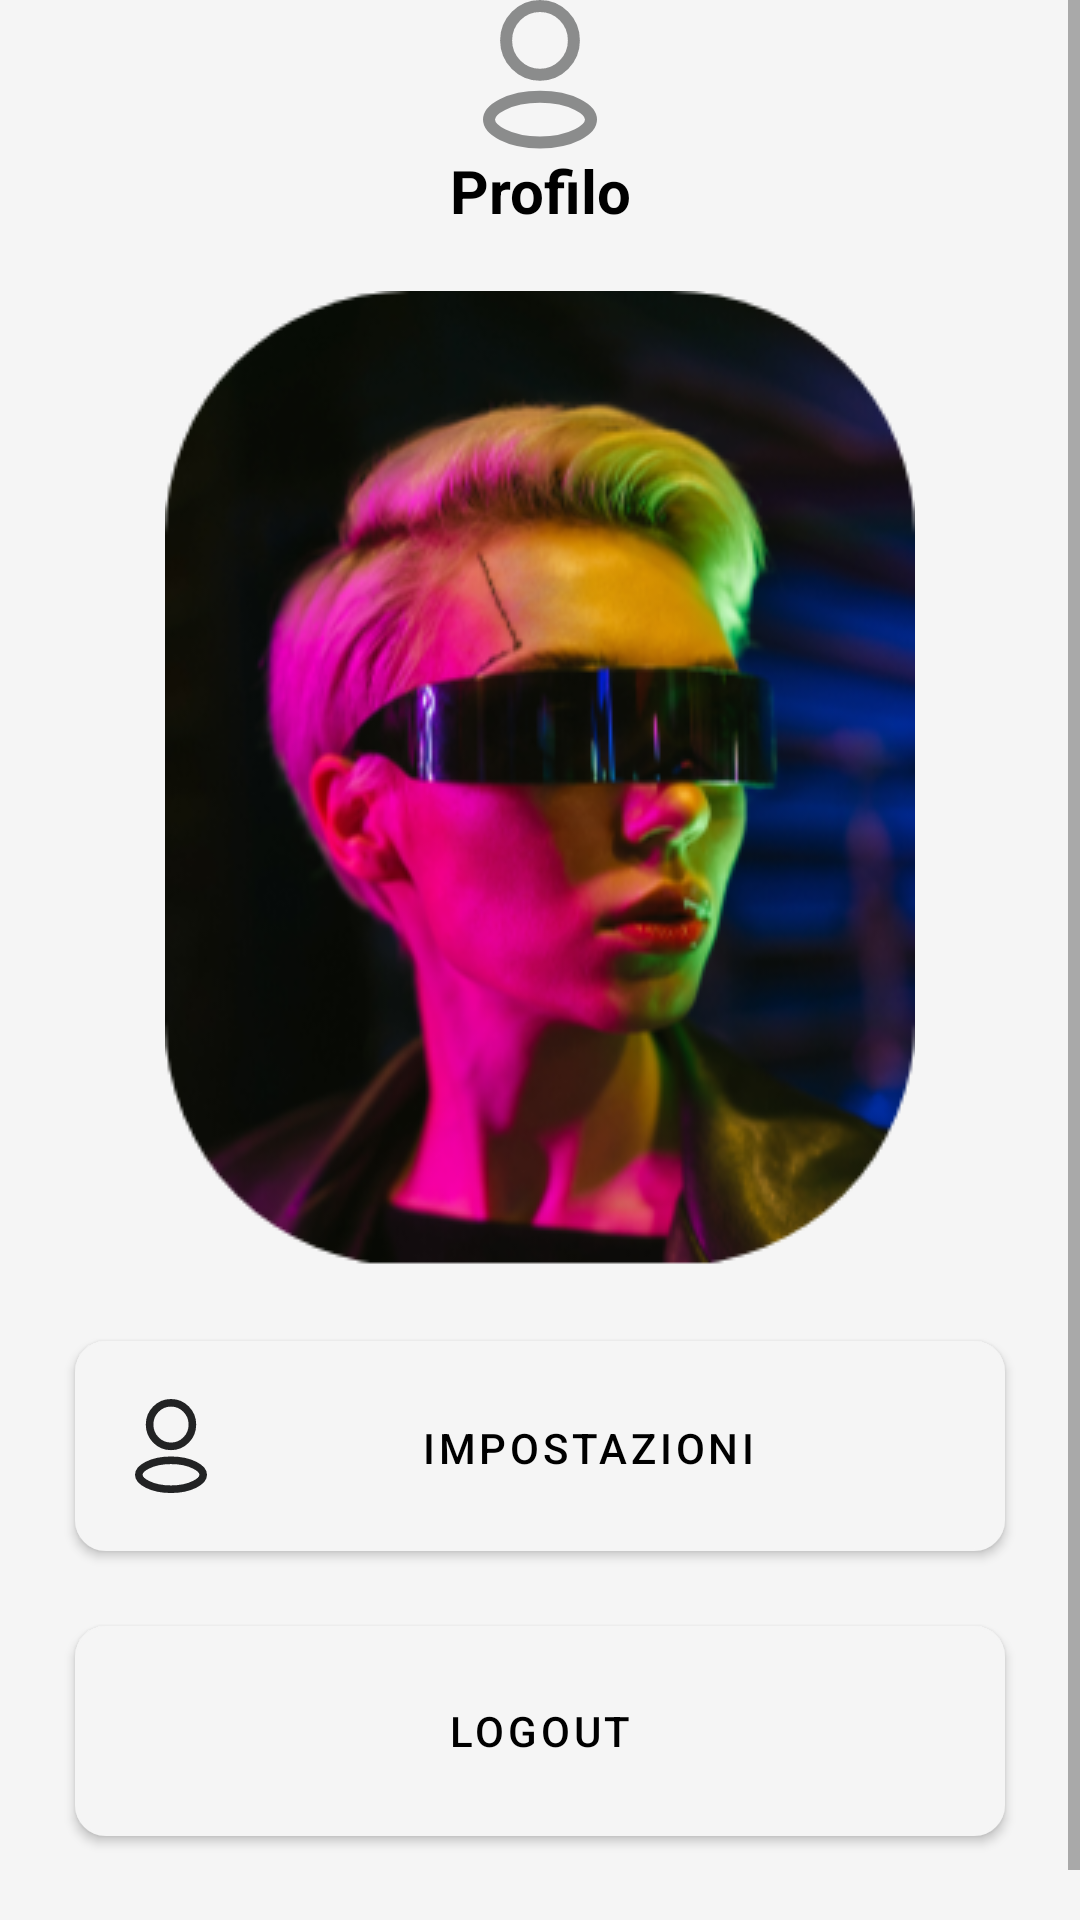

Locate icon controls on the screen. Image size 1080x1920, boxes as (x1, y1, x2, y2).
user: (483, 0, 597, 149)
